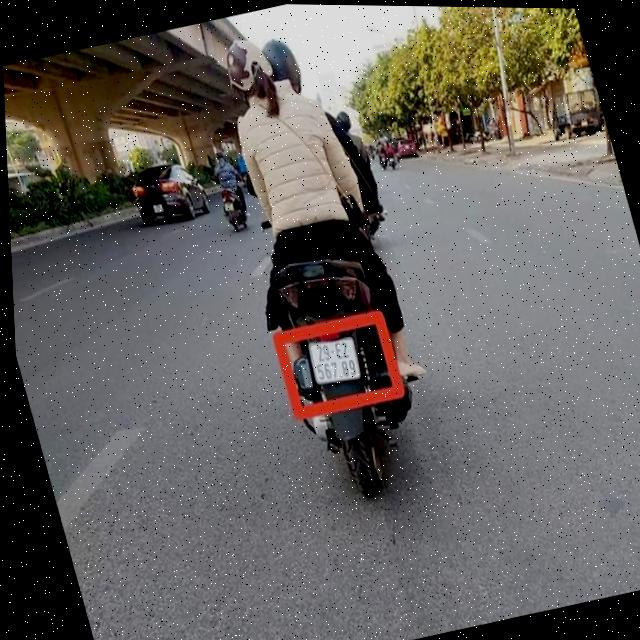car: (121, 152, 218, 234)
motorcycle: (251, 222, 446, 519), (212, 183, 254, 238)
plate: (301, 326, 369, 393)
